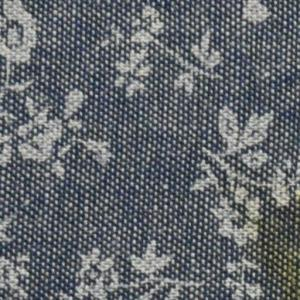Oil Stain: (237, 194, 300, 300)
